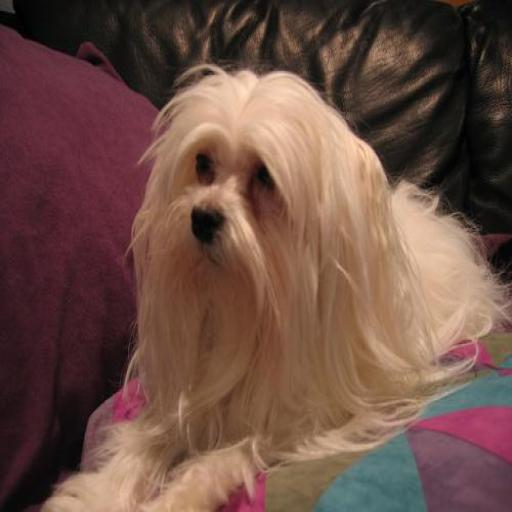dog_face: (130, 76, 386, 347)
